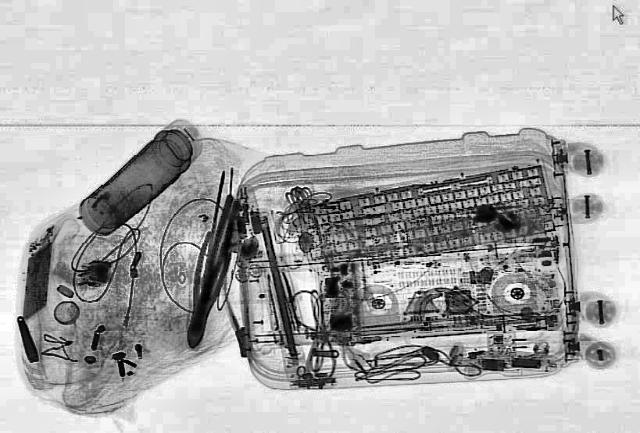Pliers: (175, 197, 242, 348)
